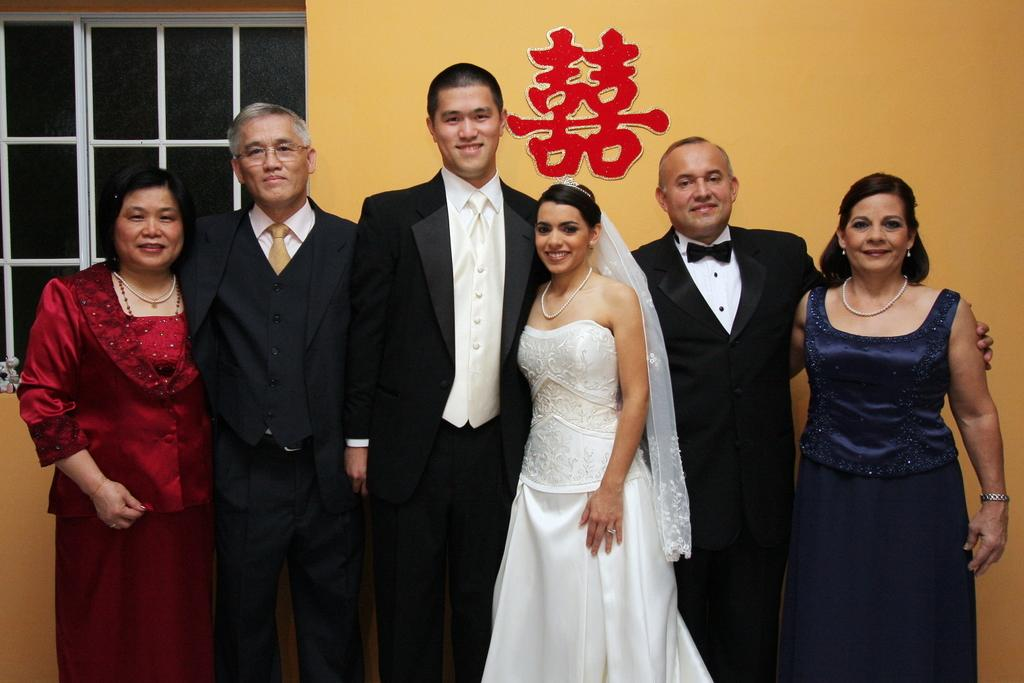Sem Máscara: (432, 85, 498, 176), (236, 118, 306, 199), (659, 149, 728, 224), (845, 189, 907, 268), (115, 188, 174, 263), (533, 201, 589, 263)
